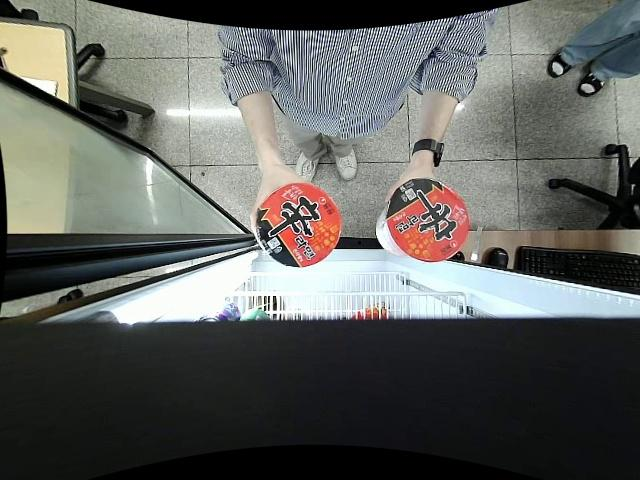00_hand: (249, 170, 317, 253), (382, 166, 445, 206)
01_shinRamen_L: (374, 178, 471, 264), (255, 185, 343, 267)
